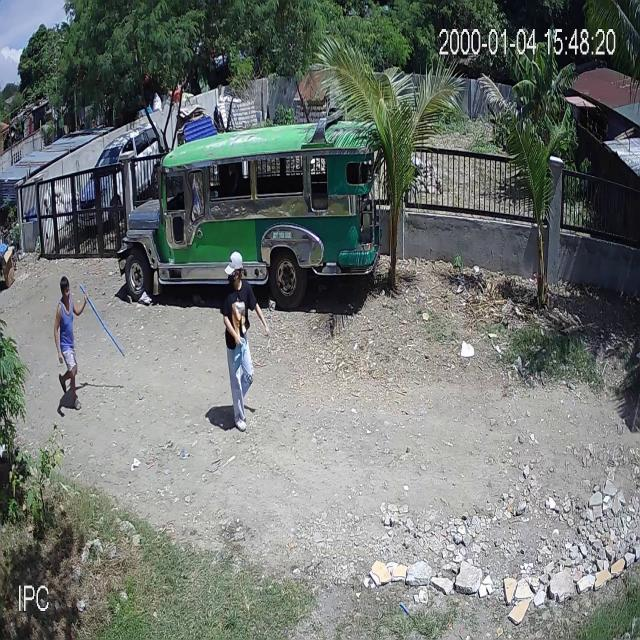running: (54, 275, 125, 409)
walking: (220, 250, 267, 431)
